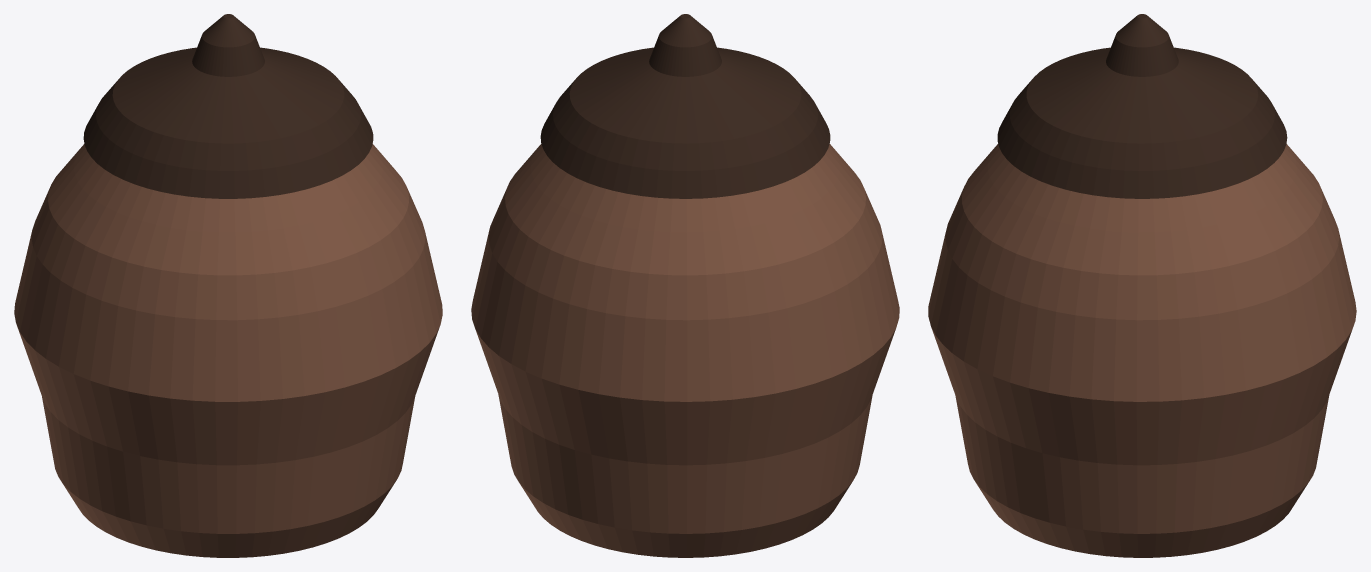
The model's file is Jar.fbx.
The picture shows the model from 3 angles, left to right: view 1: azimuth 30°, elevation 25°; view 2: azimuth 150°, elevation 25°; view 3: azimuth 270°, elevation 25°; orthographic projection.
Parts seen in each view (by area): view 1: Cylinder; view 2: Cylinder; view 3: Cylinder.
Part boxes in pixels (<box>): Cylinder: <box>14,14,442,557</box>; Cylinder: <box>471,14,899,557</box>; Cylinder: <box>928,14,1356,557</box>.
Bounding box in the file's own units: 265 × 325 × 265.
